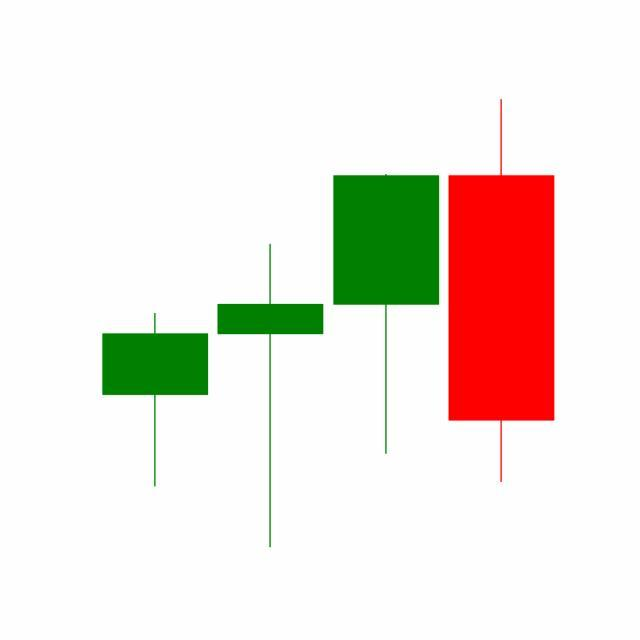Hanging Man: (329, 171, 445, 458)
